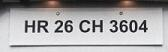0: (128, 18, 137, 32)
2: (52, 18, 64, 33)
3: (108, 17, 118, 33)
4: (137, 18, 148, 33)
6: (63, 18, 73, 32), (118, 18, 128, 32)
C: (78, 18, 90, 33)
H: (90, 17, 104, 32), (23, 18, 36, 33)
R: (35, 19, 50, 34)
